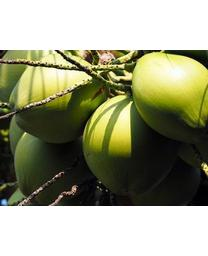coconut: (84, 92, 176, 200), (10, 53, 110, 147), (132, 51, 207, 143), (12, 127, 93, 205)
